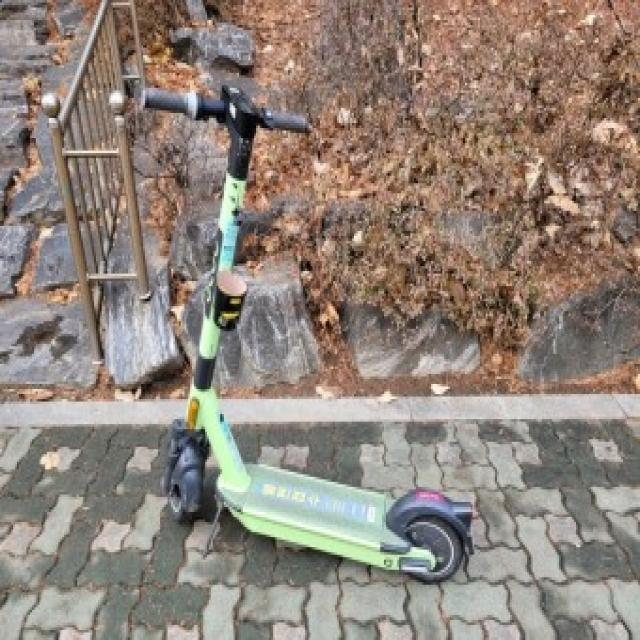curb: (221, 394, 640, 425), (0, 403, 186, 428)
kick-board: (146, 85, 472, 583)
sidewalk: (0, 420, 640, 638)
